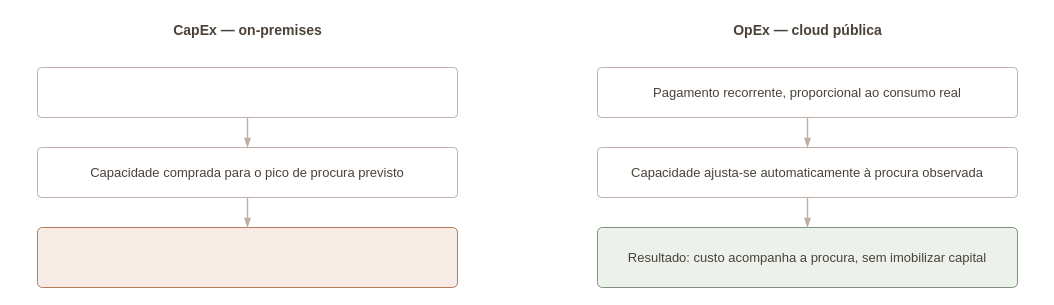
Some shapes in this 1054 by 305 pixel diagram are drawn without their labels. Each missing label, with the centre of its shape:
"Investimento único e grande, feito no início" belongs at [247,92].
"Resultado: capacidade parada e desperdiçada na maior parte do tempo" belongs at [247,257].
